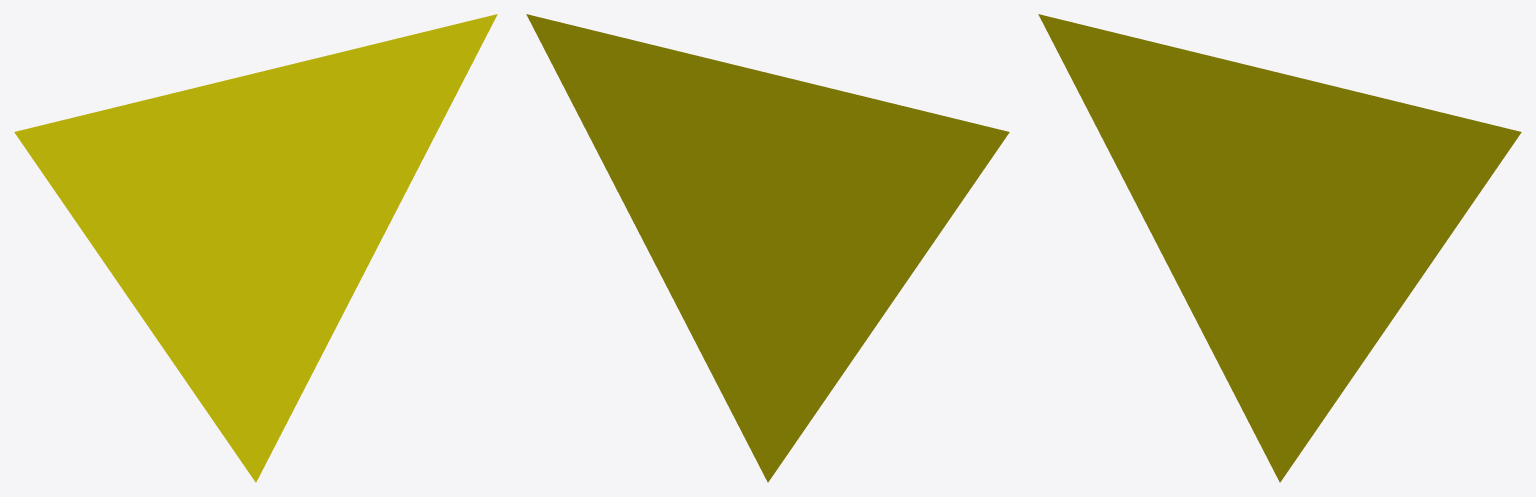
File: Triangle.fbx
The picture shows the model from 3 angles, left to right: view 1: azimuth 30°, elevation 25°; view 2: azimuth 150°, elevation 25°; view 3: azimuth 330°, elevation 25°; orthographic projection.
Parts seen in each view (by area): view 1: node_id27; view 2: node_id27; view 3: node_id27.
Boxes of the visible parts, x1,y1,x2,y2 form: node_id27: (14,14,497,482); node_id27: (526,14,1009,482); node_id27: (1038,14,1521,482).
Size of the model in its own units: 0.6741 by 0.5459 by 2.85e-06.
